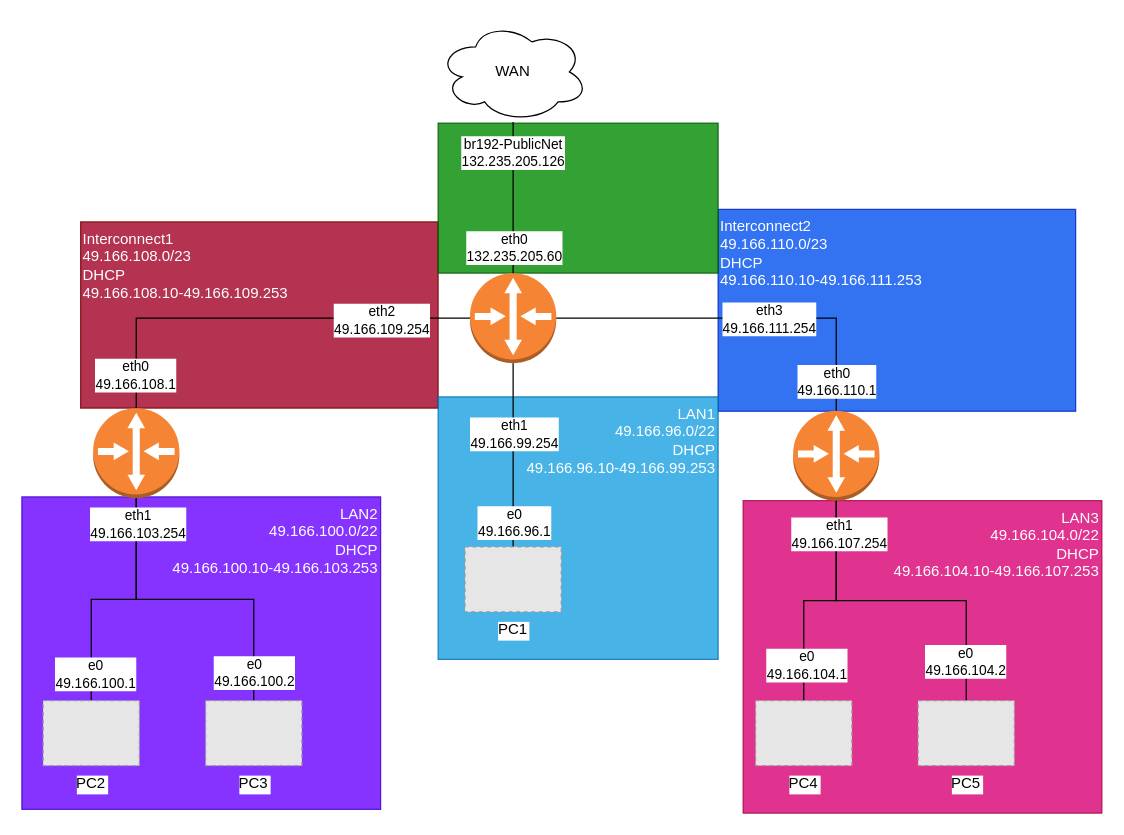
Image size: 1124x835. Some labels were removed from this diagram. Grey dashed boxes stand in for pictures. Here are the shapes that lost their labels. From the top down, the centre of each, then its label:
[577,197]: WAN 132.235.205.0/25
[512,317]: R1
[135,452]: R2
[835,455]: R3
